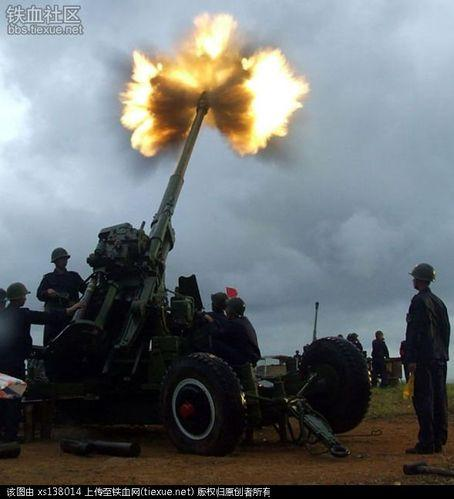MIL_SPG: (44, 96, 370, 456)
